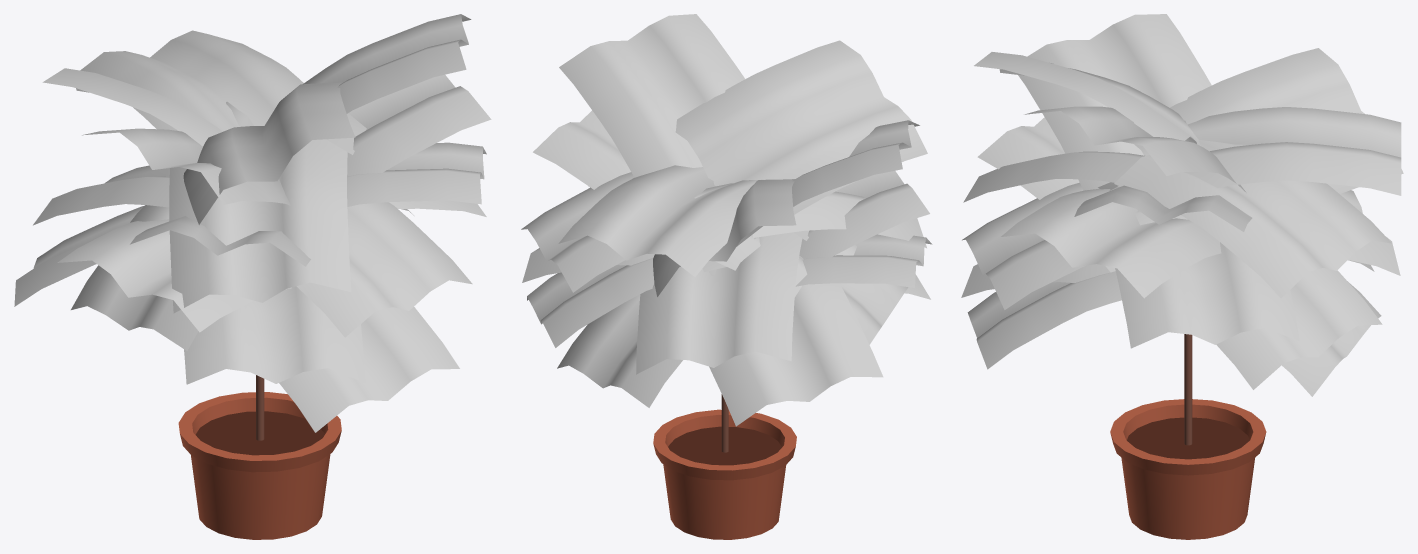
File: Plant.fbx
The picture shows the model from 3 angles, left to right: view 1: azimuth 30°, elevation 25°; view 2: azimuth 150°, elevation 25°; view 3: azimuth 270°, elevation 25°; orthographic projection. The views are drawn at different scales.
Visible parts, largest first — view 1: Leaf21, plant_stam1; view 2: Leaf21, plant_stam1; view 3: Leaf21, plant_stam1.
Boxes of the visible parts, left/top/right/bottom form: Leaf21: left=14, top=14, right=491, bottom=432; plant_stam1: left=178, top=375, right=341, bottom=539; Leaf21: left=521, top=14, right=932, bottom=426; plant_stam1: left=653, top=394, right=796, bottom=539; Leaf21: left=961, top=14, right=1403, bottom=396; plant_stam1: left=1110, top=334, right=1266, bottom=539.
Bounding box in the file's own units: 233 × 261 × 225.
